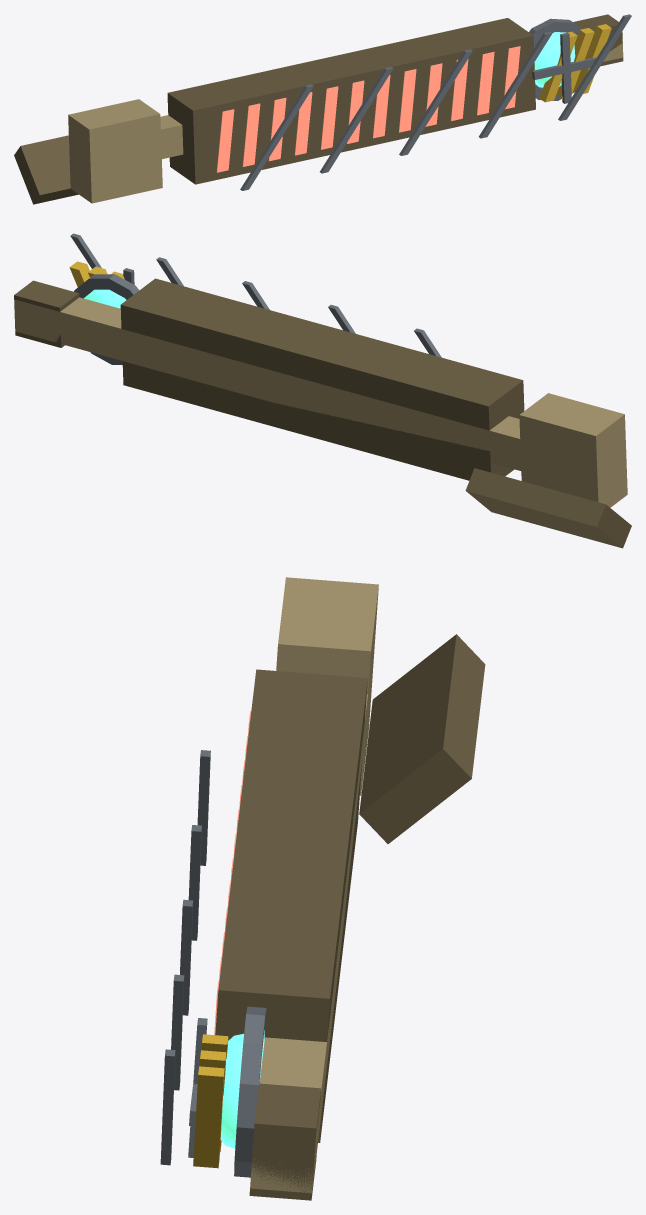
The model's file is mast.glb.
3 renders of one model, top to bottom at view 1: azimuth 30°, elevation 25°; view 2: azimuth 150°, elevation 25°; view 3: azimuth 270°, elevation 25°, orthographic. The views are drawn at different scales.
Visible parts, largest first — view 1: pkt_mast_tally, pkt_mast_collar, pkt_mast_foot, pkt_mast_rod, pkt_mast_scrim_1, pkt_mast_scrim_2, pkt_mast_scrim_3, pkt_mast_scrim_4, pkt_mast_scrim_0, pkt_mast_cap, pkt_mast_capring, pkt_mast_notch_7 (+17 smaller); view 2: pkt_mast_tally, pkt_mast_rod, pkt_mast_collar, pkt_mast_foot, pkt_mast_knob, pkt_mast_capring, pkt_mast_cap; view 3: pkt_mast_tally, pkt_mast_foot, pkt_mast_collar, pkt_mast_knob, pkt_mast_rod, pkt_mast_capring, pkt_mast_capstripe_2, pkt_mast_cap, pkt_mast_scrim_4, pkt_mast_scrim_0, pkt_mast_scrim_3, pkt_mast_scrim_1 (+1 smaller).
Part boxes in pixels (x1,y1,x2,y2): pkt_mast_tally: (167,18,535,184); pkt_mast_collar: (68,99,162,203); pkt_mast_foot: (14,135,78,204); pkt_mast_rod: (160,43,623,158); pkt_mast_scrim_1: (320,67,393,173); pkt_mast_scrim_2: (399,49,472,155); pkt_mast_scrim_3: (479,32,552,138); pkt_mast_scrim_4: (558,14,631,120); pkt_mast_scrim_0: (240,84,313,190); pkt_mast_cap: (534,32,575,87); pkt_mast_capring: (529,18,581,100); pkt_mast_notch_7: (399,69,416,132); pkt_mast_tally: (120,278,524,480); pkt_mast_rod: (14,297,521,470); pkt_mast_collar: (519,393,627,507); pkt_mast_foot: (465,468,631,548); pkt_mast_knob: (14,280,79,347); pkt_mast_capring: (74,274,139,364); pkt_mast_cap: (84,289,126,308); pkt_mast_tally: (215,669,367,1142); pkt_mast_foot: (359,634,485,843); pkt_mast_collar: (276,577,378,795); pkt_mast_knob: (249,1083,321,1200); pkt_mast_rod: (250,694,367,1193); pkt_mast_capring: (234,1006,266,1177); pkt_mast_capstripe_2: (193,1066,224,1168); pkt_mast_cap: (220,1030,264,1148); pkt_mast_scrim_4: (160,1049,175,1165); pkt_mast_scrim_0: (197,750,210,865); pkt_mast_scrim_3: (171,974,184,1090); pkt_mast_scrim_1: (188,825,201,940).
Bounding box in the file's own units: 0.1828 × 0.0317 × 0.0464.
